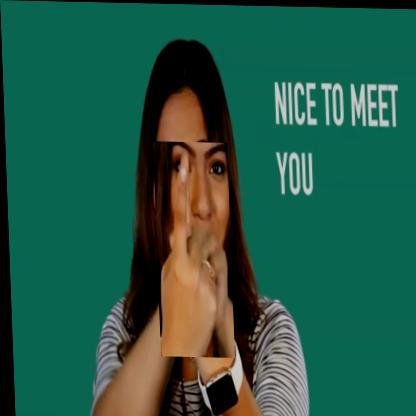NiceToMeetYou: (152, 141, 232, 357)
